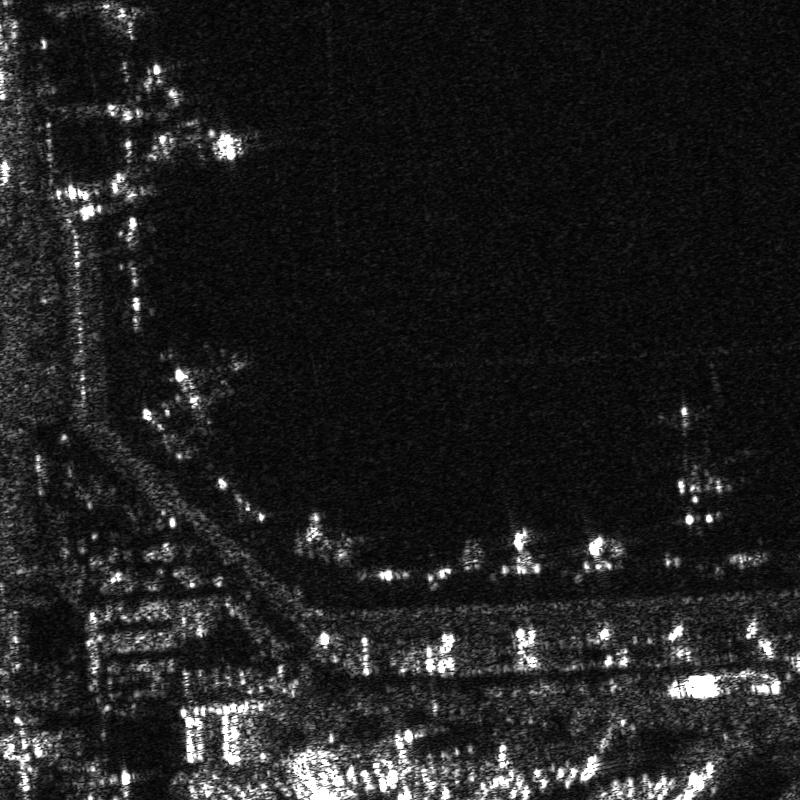A220: (151, 339, 255, 430)
A320/321: (124, 83, 252, 170)
Boeing787: (660, 402, 741, 536)
